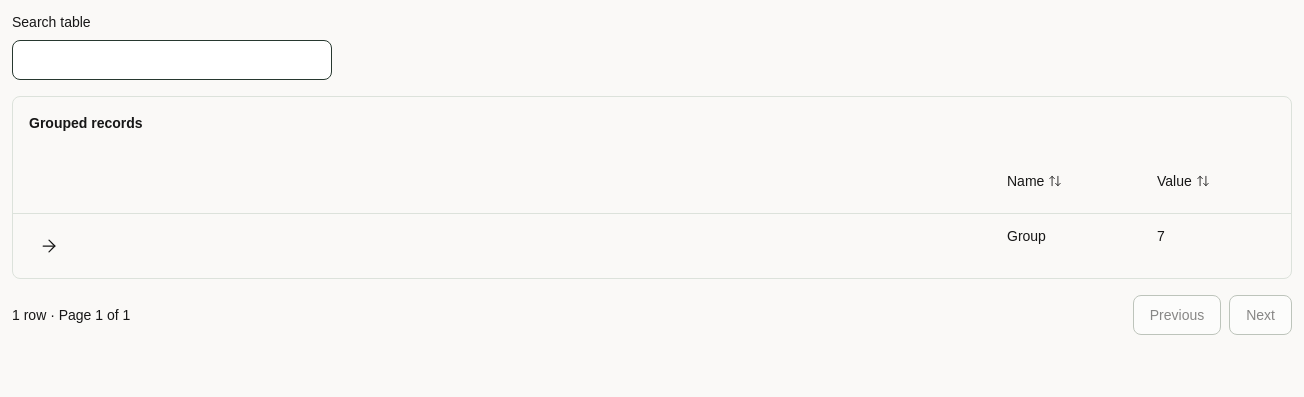
it: reflects external column visibility, order and expanded host-supplied groups
Check: the text "Child" is not shown
Step 1. Click the button named "Expand Group" → (49, 246), box [29,226,69,266]
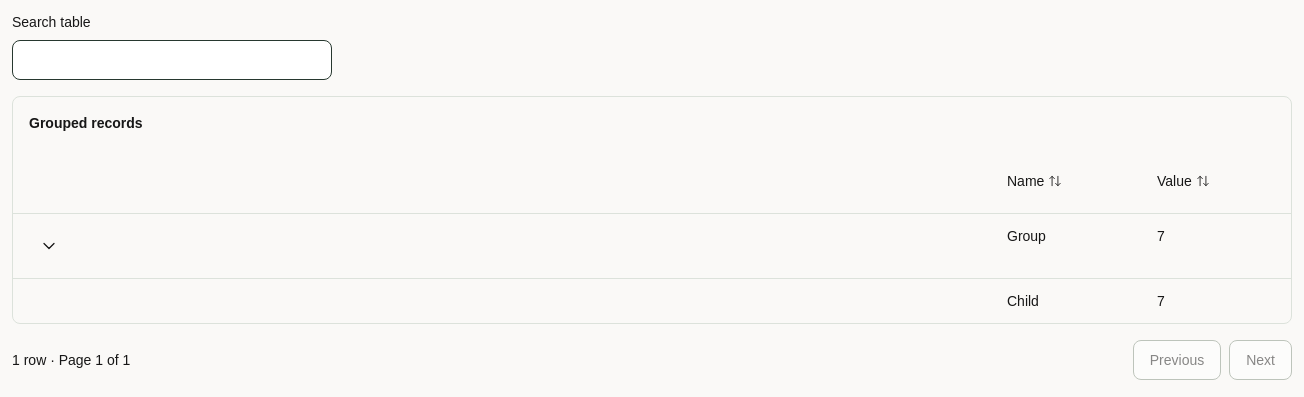
Check: the text "Child" is shown, box [991,278,1141,323]
